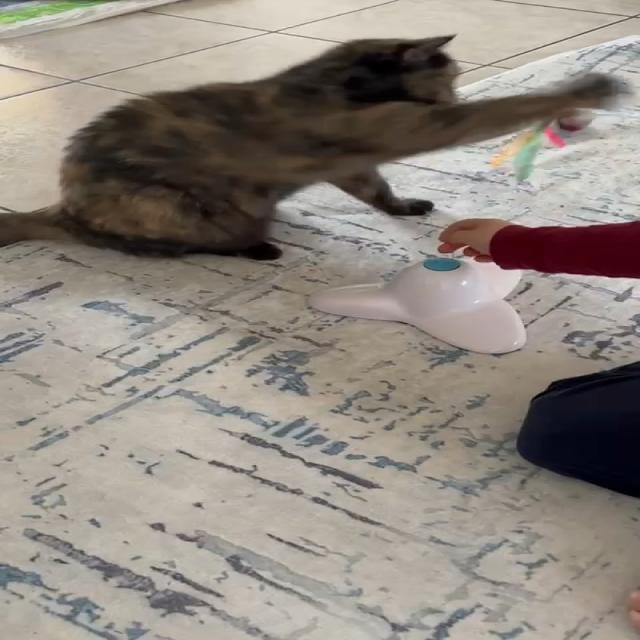authorized: (0, 32, 621, 261)
